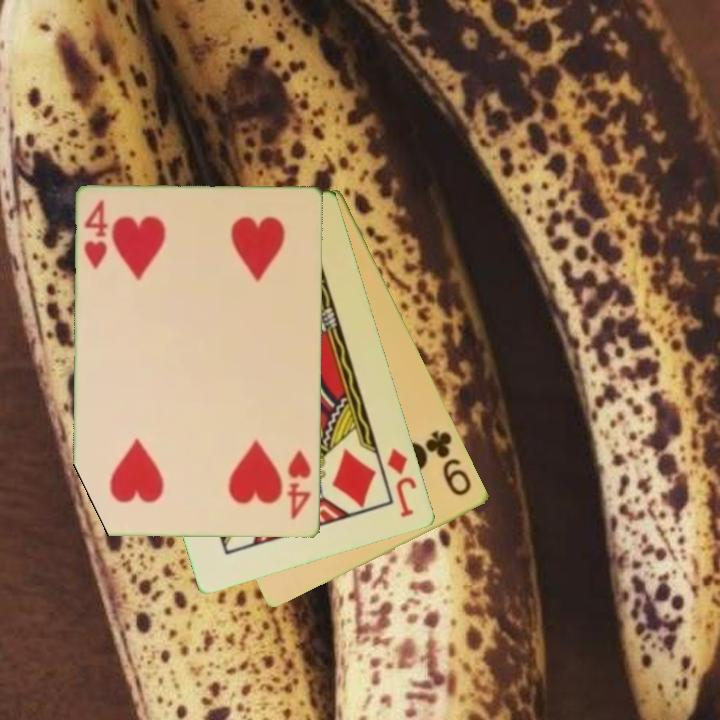4h: (283, 447, 315, 524), (81, 196, 112, 272)
9c: (422, 426, 475, 499)
Jd: (384, 445, 421, 521)
